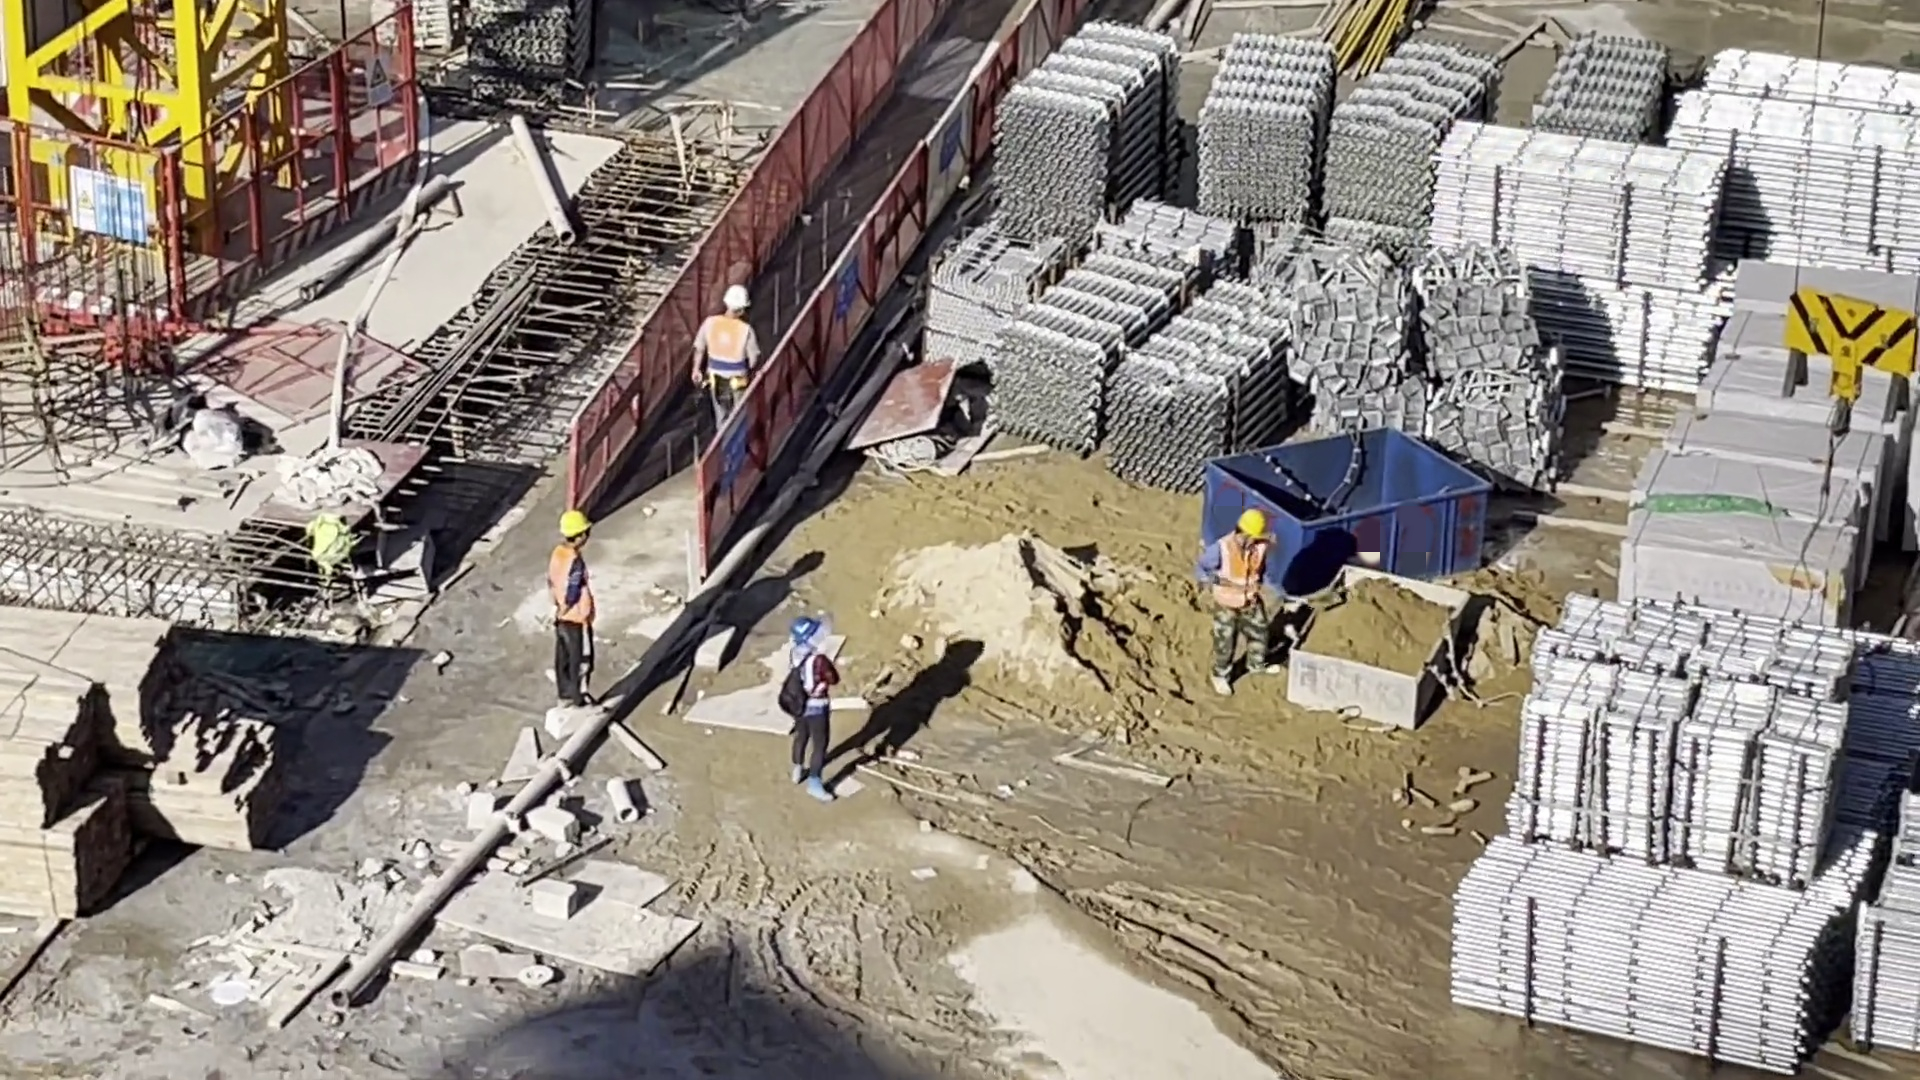fence: (549, 1, 1052, 566)
helmet: (1220, 493, 1269, 542), (540, 509, 593, 535), (718, 274, 753, 312), (777, 608, 821, 638)
hook: (1768, 290, 1913, 456)
hopper: (1210, 425, 1510, 591), (1286, 558, 1471, 728)
person: (772, 619, 854, 807), (1206, 498, 1284, 695), (543, 516, 615, 705), (687, 286, 754, 428)
scaffold: (1463, 593, 1920, 1074), (1446, 23, 1920, 388), (989, 250, 1301, 488), (1188, 26, 1496, 235), (986, 21, 1177, 251)
vest: (1211, 535, 1266, 610), (698, 313, 755, 383), (551, 543, 598, 628)
wood: (11, 583, 314, 915)
